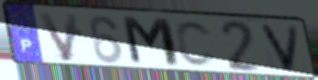2: (219, 18, 263, 75)
6: (87, 14, 128, 65)
C: (173, 20, 219, 69)
M: (119, 15, 184, 70)
V: (257, 23, 302, 75), (36, 11, 81, 63)
